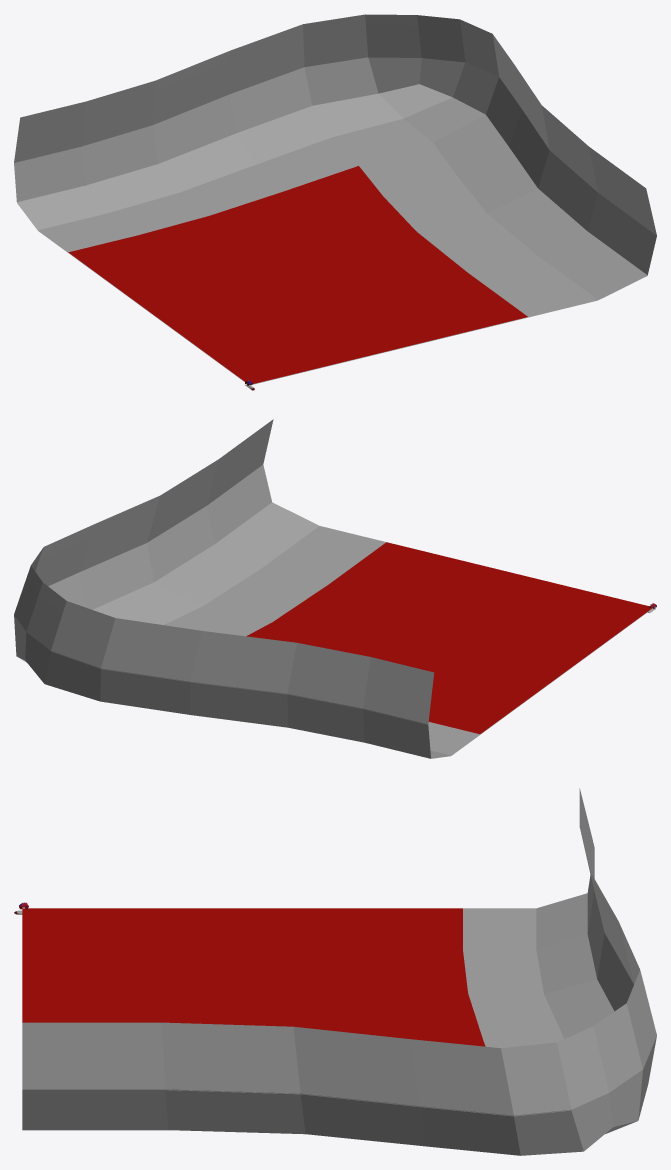
Rendered from Arena_2.obj.
3 views of the same model, one above another, from view 1: azimuth 30°, elevation 25°; view 2: azimuth 150°, elevation 25°; view 3: azimuth 270°, elevation 25° (orthographic). The views are drawn at different scales.
Parts seen in each view (by area): view 1: Cube.004_Cube.006; view 2: Cube.004_Cube.006; view 3: Cube.004_Cube.006.
Boxes of the visible parts, x1,y1,x2,y2 form: Cube.004_Cube.006: (14, 14, 656, 385); Cube.004_Cube.006: (14, 419, 652, 758); Cube.004_Cube.006: (22, 788, 656, 1155).
Size of the model in its own units: 380 by 83 by 383.
